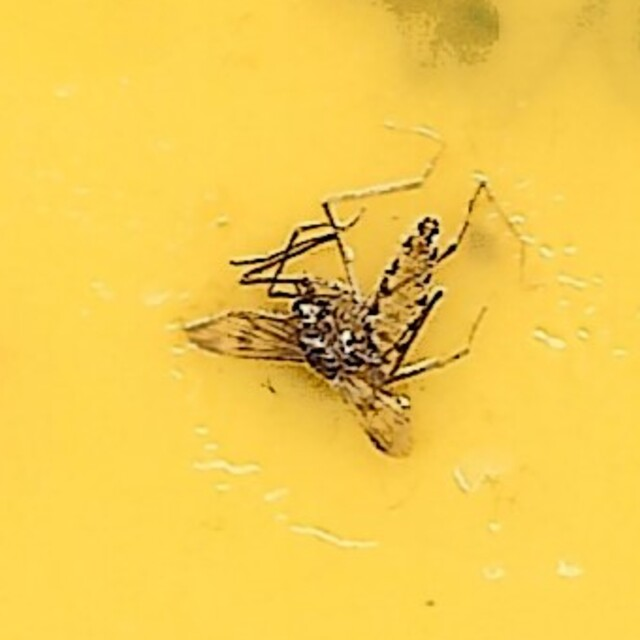Nematocera: (188, 189, 452, 451)
